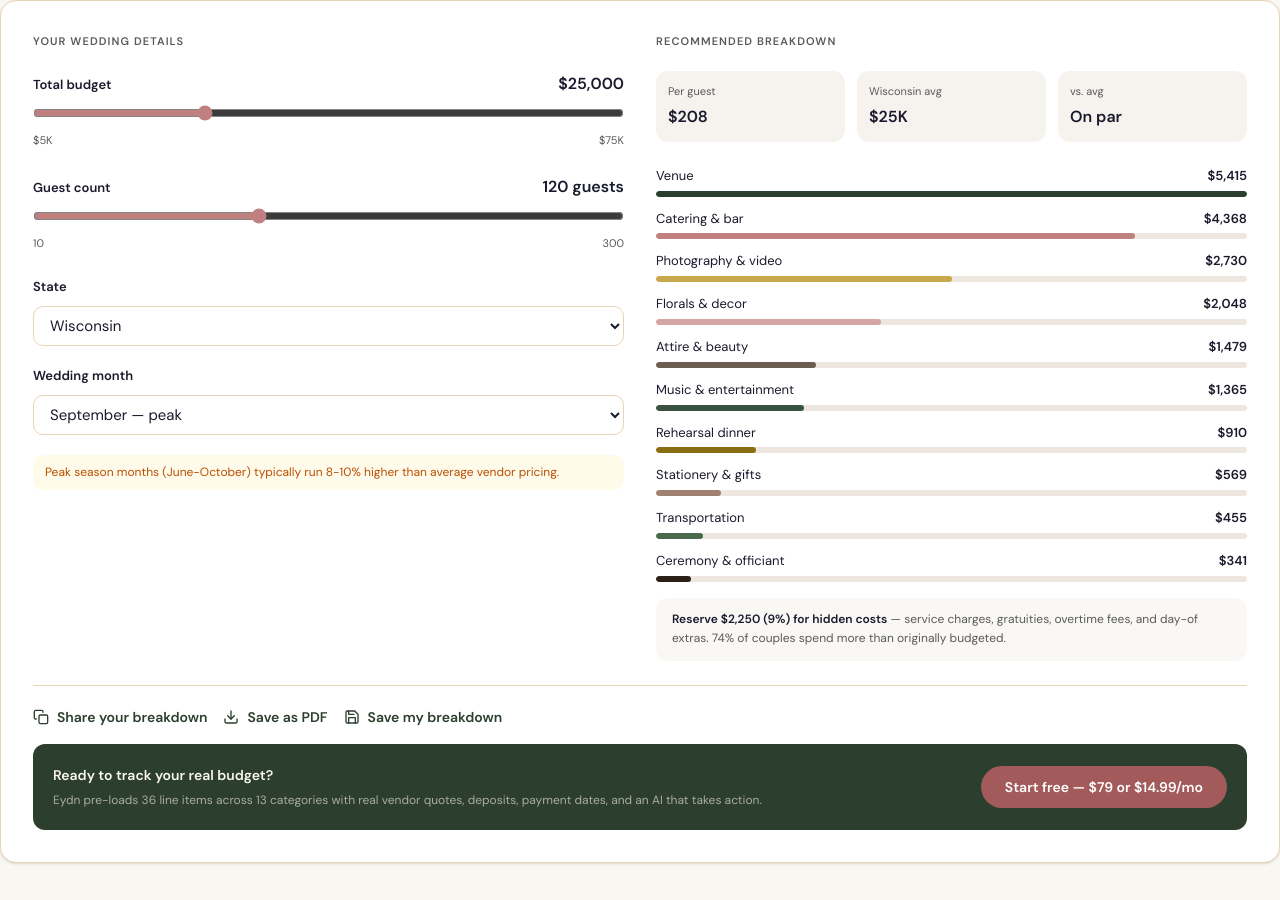
Test: WeddingBudgetCalculator › shows off-season note when selecting an off-season month
Step 1. Select "January — off-season" in the dropdown named "Wedding month" → (328, 415), box [33,395,624,435]
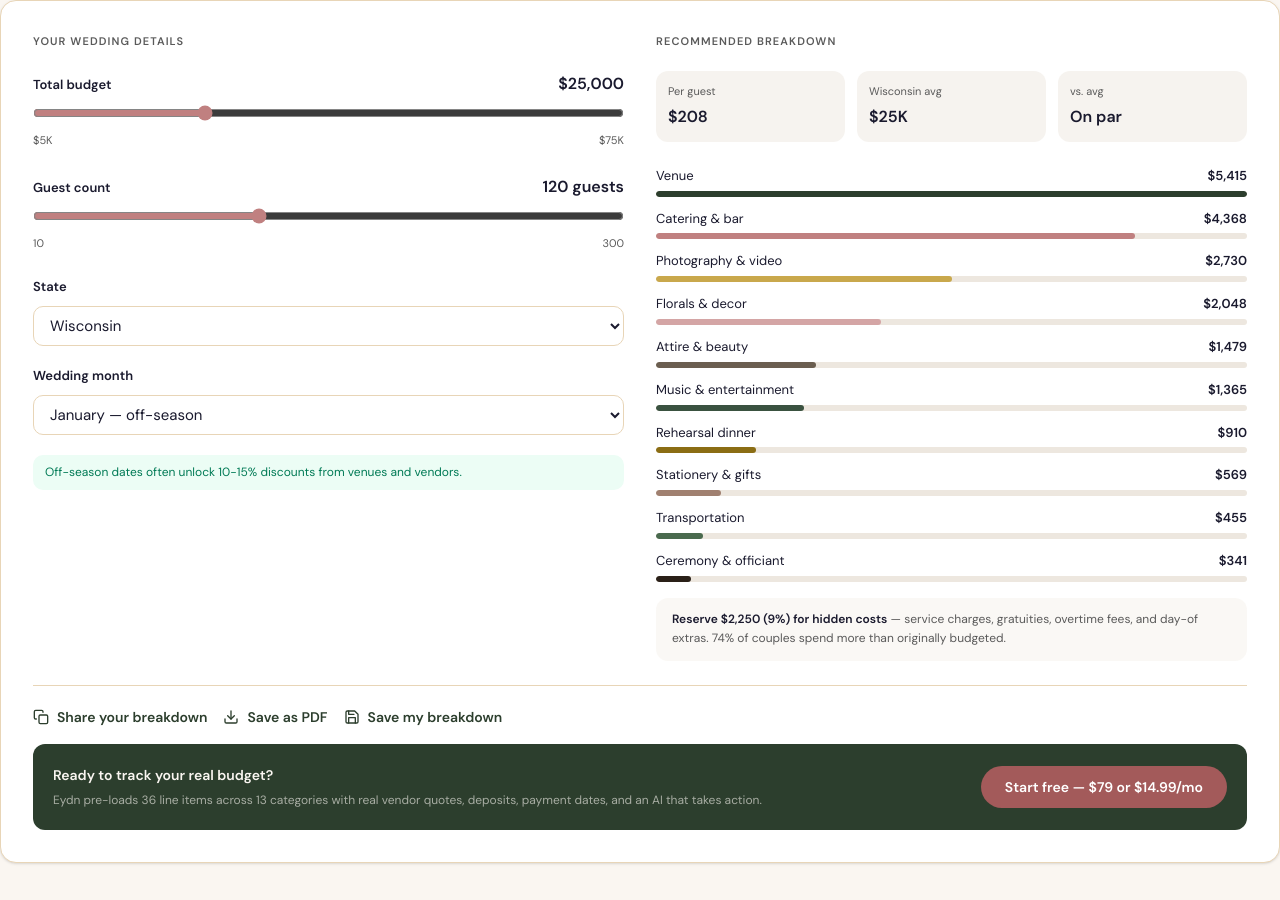
Expected: the text "Off-season dates often unlock" is shown, [45,464,462,480]
